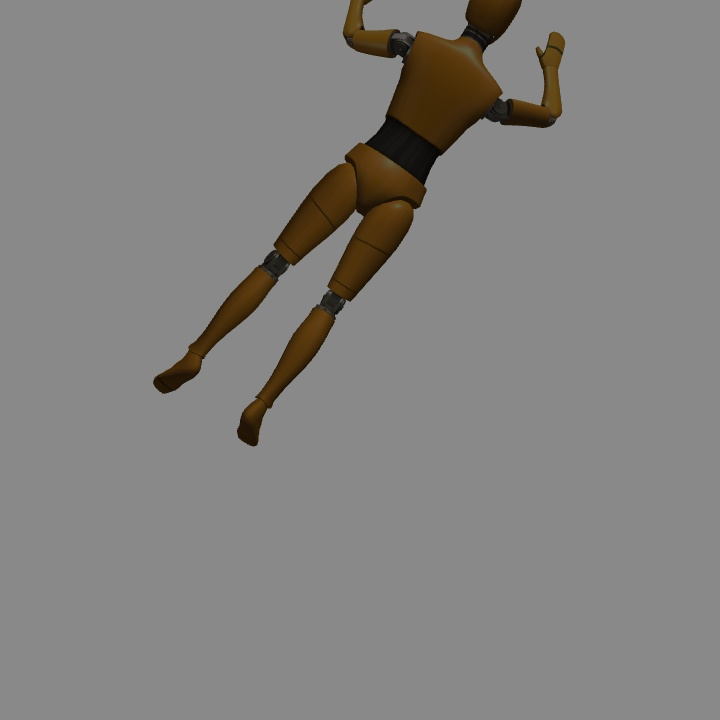victim: (156, 1, 562, 444)
